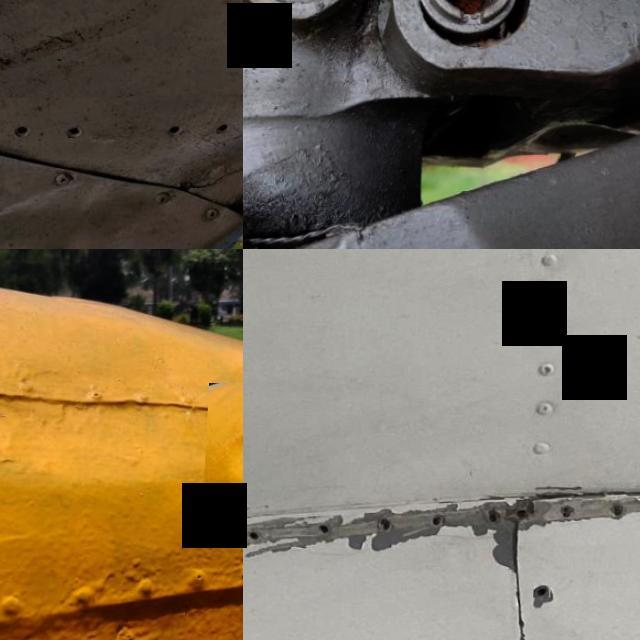Crack: (518, 482, 640, 503)
Dent: (0, 94, 243, 249)
Missing_Fastener: (564, 506, 582, 520), (540, 586, 557, 598), (519, 510, 538, 520), (616, 506, 631, 518), (322, 524, 338, 535), (491, 512, 504, 524), (436, 517, 448, 528), (253, 530, 266, 539)
